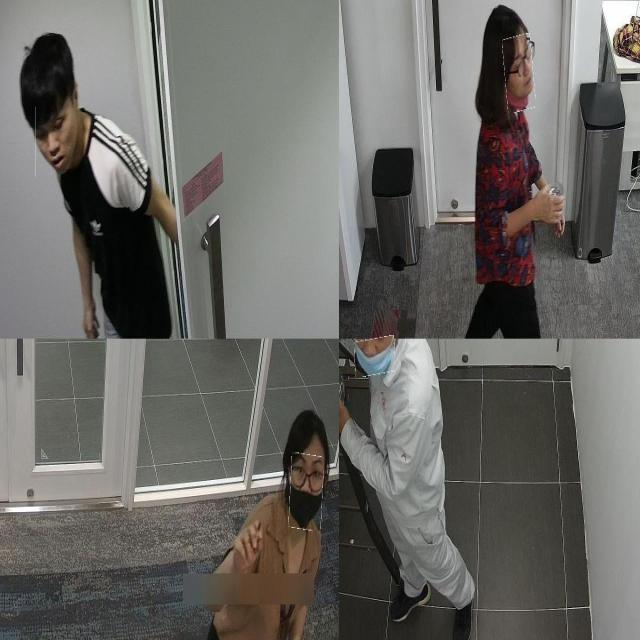hairnet: (290, 454, 324, 531), (504, 35, 534, 113), (354, 337, 396, 376)
